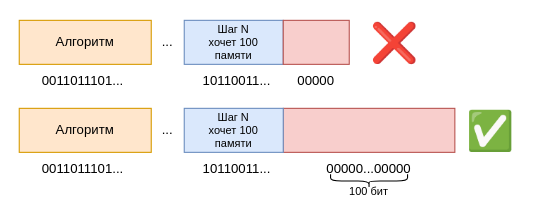
Image size: 535x216. Some labels were removed from this diagram. The centre of each missing label's shape, as x and y in pixels:
100 памяти: the point at 368,129
5 памяти: the point at 315,41
